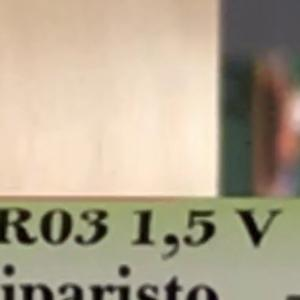keyword: (122, 199, 292, 256)
